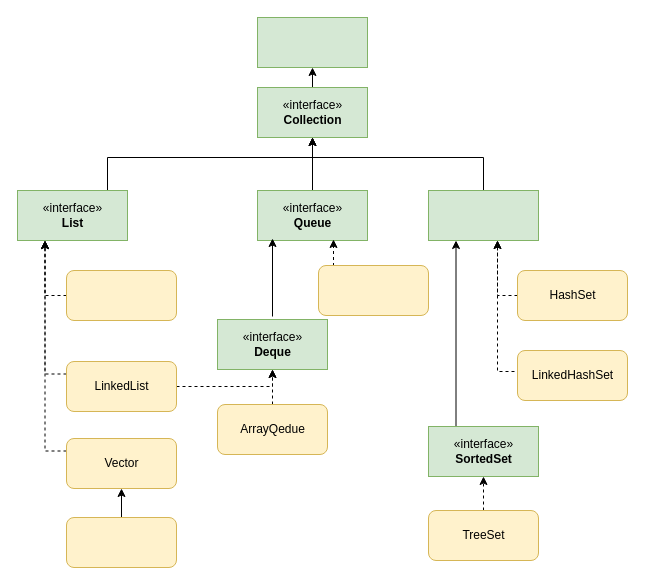
The diagram is 645 pixels wide and 585 high, and some of its shapes have lost their labels. The centre of each missing label's shape, as x and y in pixels:
ArrayList: the point at 121,295
PnorityQueue: the point at 373,290
Stack: the point at 121,542
«interface» Iterable: the point at 312,42
«interface» Set: the point at 483,215
